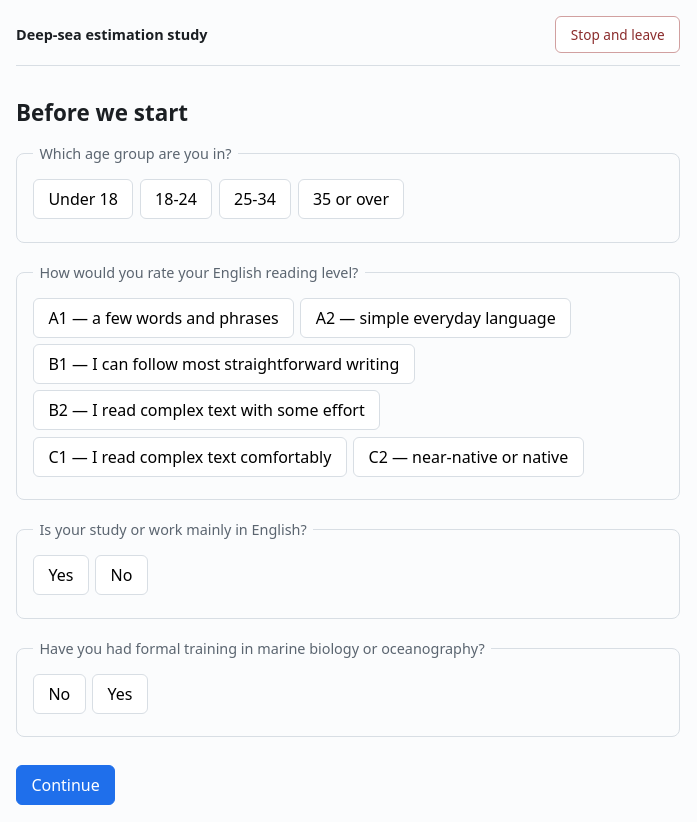
Test: age screening › turns away a participant under 18 and records why
What coordinates should you click on to do the following:
click the button with test id "age-under-18"
I would click on:
 (83, 199)
Its box is [33, 179, 133, 219].
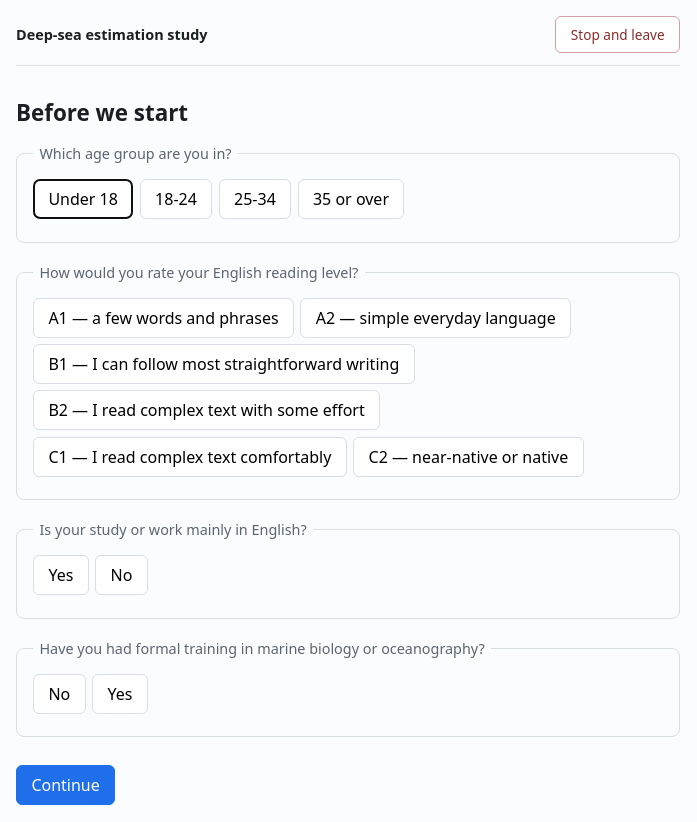
What coordinates should you click on to do the following:
click the button with test id "training-no"
I would click on:
 (59, 694)
Its box is [33, 674, 86, 714].
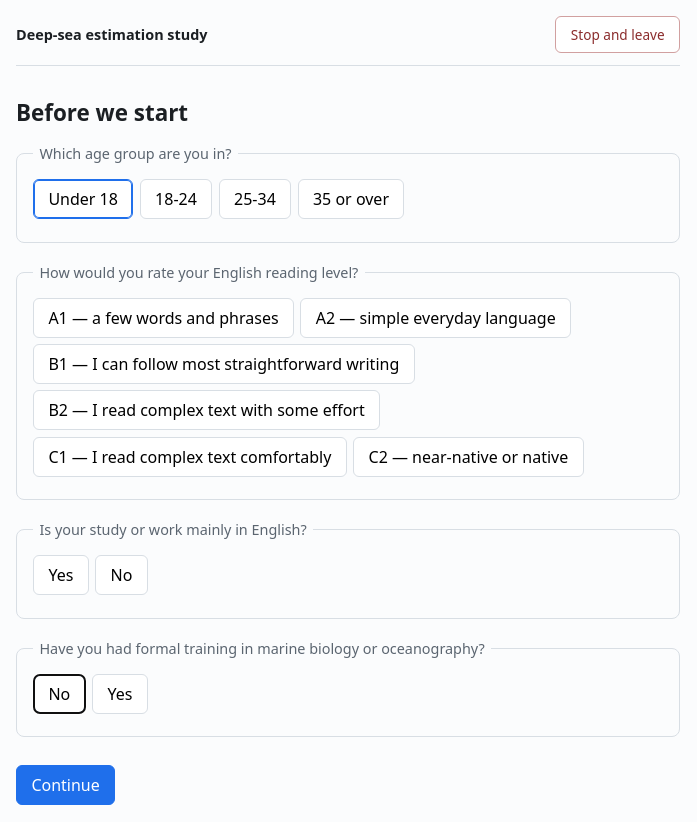
What coordinates should you click on to do the following:
click the button with test id "submit-eligibility"
I would click on:
 (66, 785)
Its box is [16, 765, 115, 805].
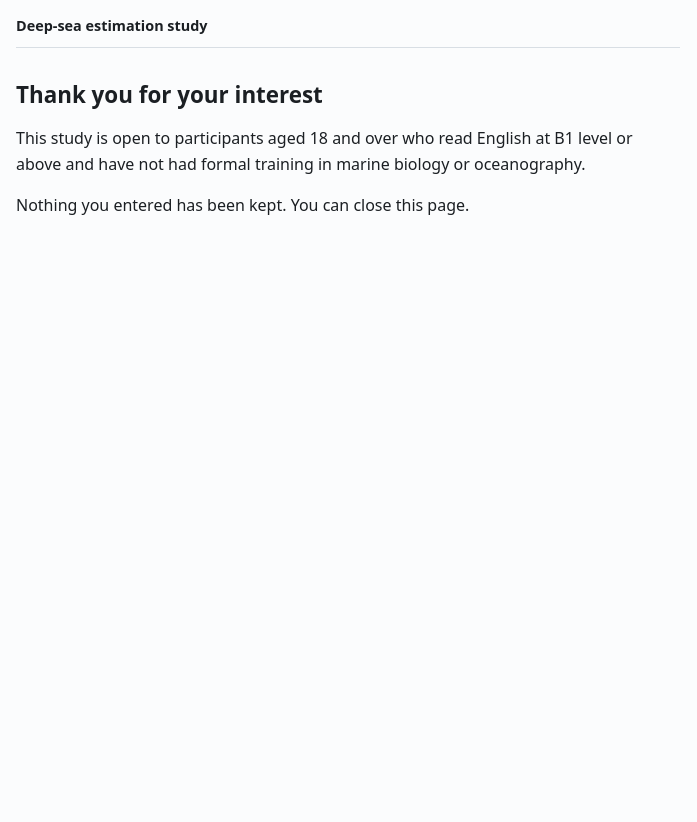
Now the element with test id "screen-screened-out" is shown, box [16, 80, 680, 219]
